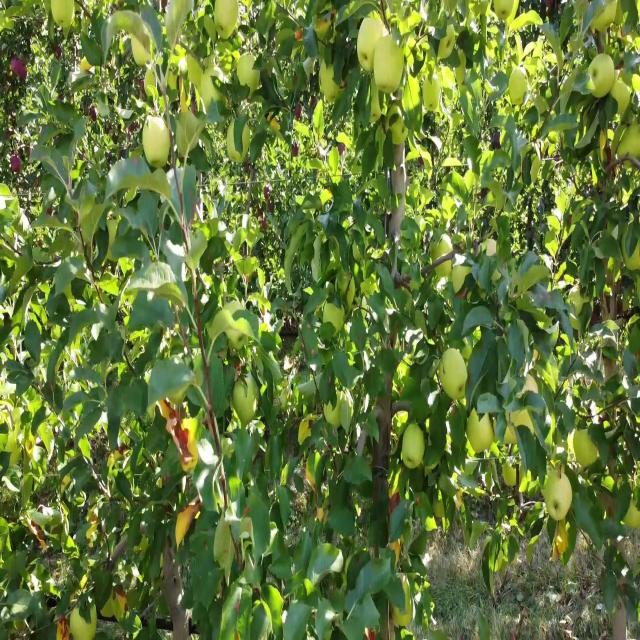apple: (376, 35, 404, 94), (144, 120, 172, 171), (360, 14, 384, 71), (132, 21, 157, 69), (572, 426, 599, 469), (548, 476, 572, 523), (468, 412, 493, 455), (592, 56, 615, 100), (612, 71, 632, 112), (216, 7, 240, 37), (384, 7, 408, 36), (52, 1, 75, 30), (388, 7, 411, 36), (396, 590, 413, 628), (592, 7, 614, 36), (184, 56, 204, 87), (404, 78, 421, 112), (424, 78, 440, 114), (440, 28, 456, 62), (512, 71, 528, 105), (232, 28, 246, 64), (556, 519, 569, 555), (624, 241, 640, 270), (384, 99, 403, 123), (396, 7, 411, 37), (624, 504, 640, 532), (600, 127, 616, 155), (396, 362, 409, 396), (440, 63, 455, 92), (372, 92, 387, 121), (392, 120, 408, 146), (316, 14, 329, 41), (504, 462, 517, 489), (416, 42, 431, 64), (220, 49, 232, 76), (388, 106, 403, 126), (408, 7, 421, 30), (504, 426, 517, 448), (416, 42, 428, 64), (404, 35, 417, 55), (404, 49, 416, 69), (425, 56, 437, 75), (392, 540, 401, 565), (456, 63, 466, 85), (420, 35, 431, 55), (488, 440, 500, 457), (80, 56, 92, 73), (12, 156, 22, 176), (12, 56, 21, 78), (320, 191, 333, 206), (468, 440, 479, 457), (632, 71, 640, 94), (436, 497, 444, 519), (392, 490, 400, 512), (20, 63, 28, 82), (336, 142, 346, 156), (232, 49, 240, 66), (552, 547, 560, 562), (428, 519, 436, 533)
